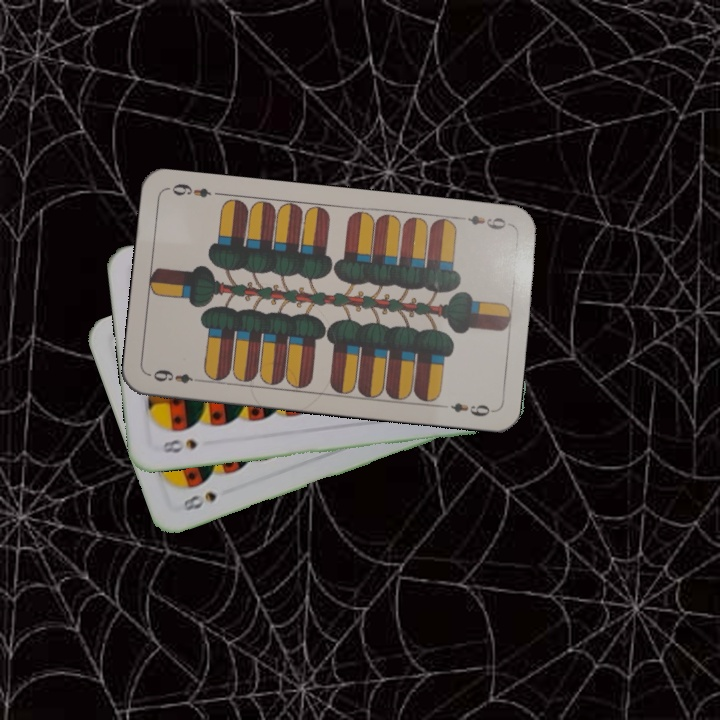E9: (146, 365, 205, 386), (454, 211, 509, 232)
S8: (176, 486, 219, 514), (157, 434, 200, 456)
